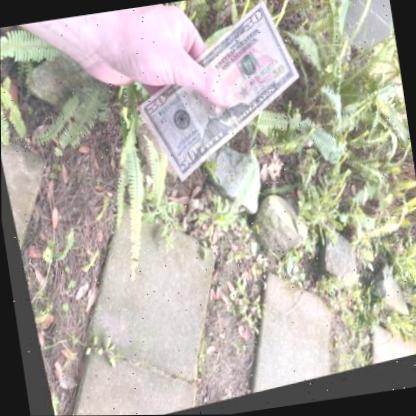fifty-front: (135, 7, 298, 186)
